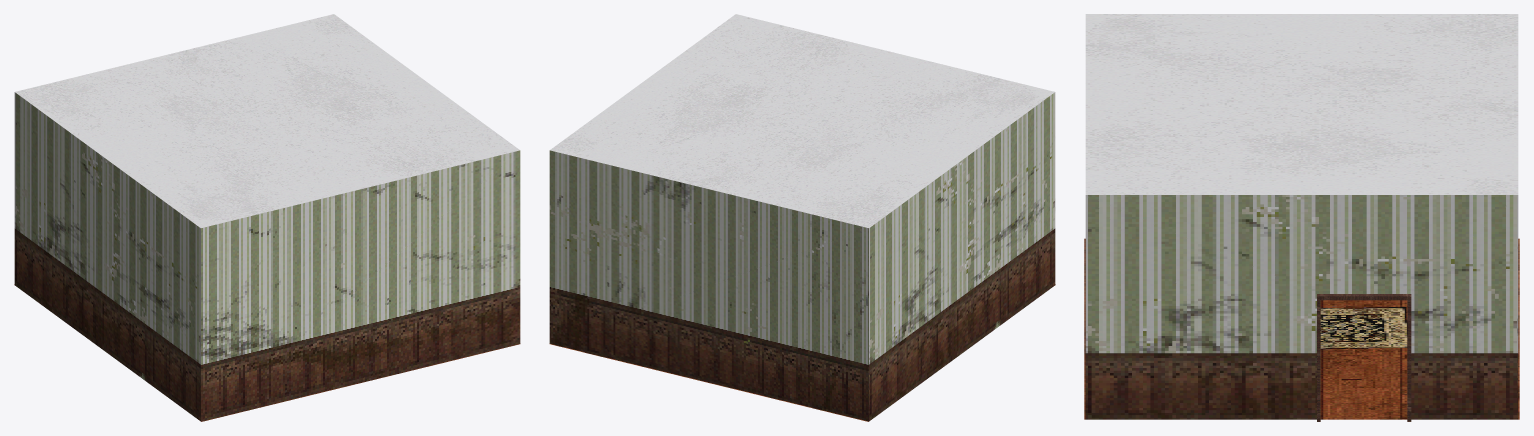
File: Room.glb
The picture shows the model from 3 angles, left to right: view 1: azimuth 30°, elevation 25°; view 2: azimuth 150°, elevation 25°; view 3: azimuth 270°, elevation 25°; orthographic projection. The views are drawn at different scales.
Parts seen in each view (by area): view 1: Walls, Ceiling; view 2: Walls, Ceiling; view 3: Walls, Ceiling, Floor.
Part boxes in pixels (x1,y1,x2,y2): Walls: (14,92,520,421); Ceiling: (15,14,519,227); Walls: (549,92,1055,421); Ceiling: (550,14,1054,227); Walls: (1085,195,1518,421); Ceiling: (1085,14,1518,194); Floor: (1084,238,1519,419).
Bounding box in the file's own units: 8.07 × 4.6 × 8.09.
Materials: 3 (3 with a texture image).
